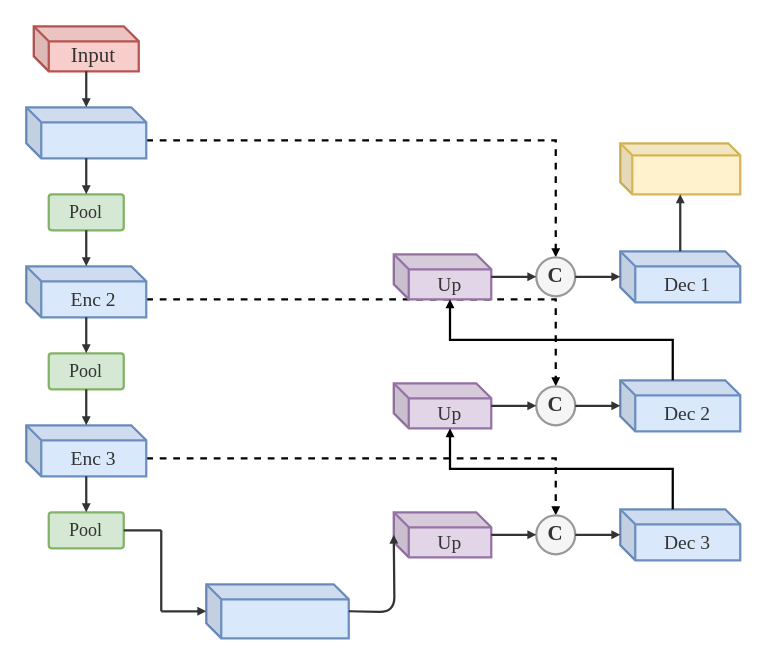
This 768x666 diagram has some shape labels left out. Each missing label, with the centre of its shape:
Bottleneck: (276,610)
Enc 1: (85,132)
Output: (679,168)
